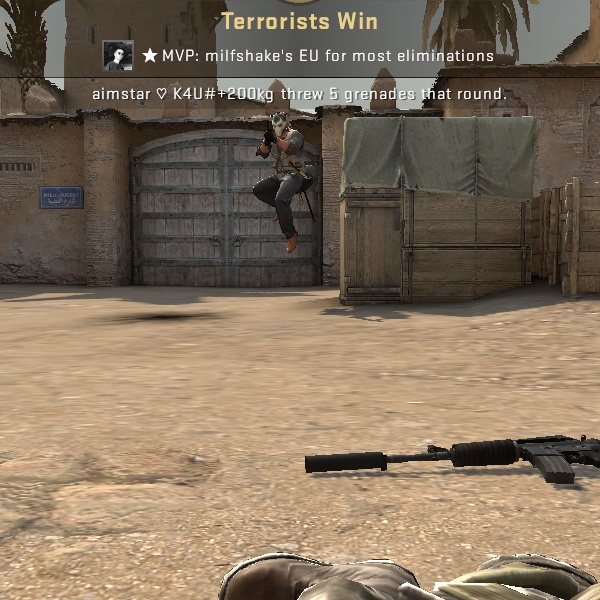t_body: (242, 100, 329, 261)
